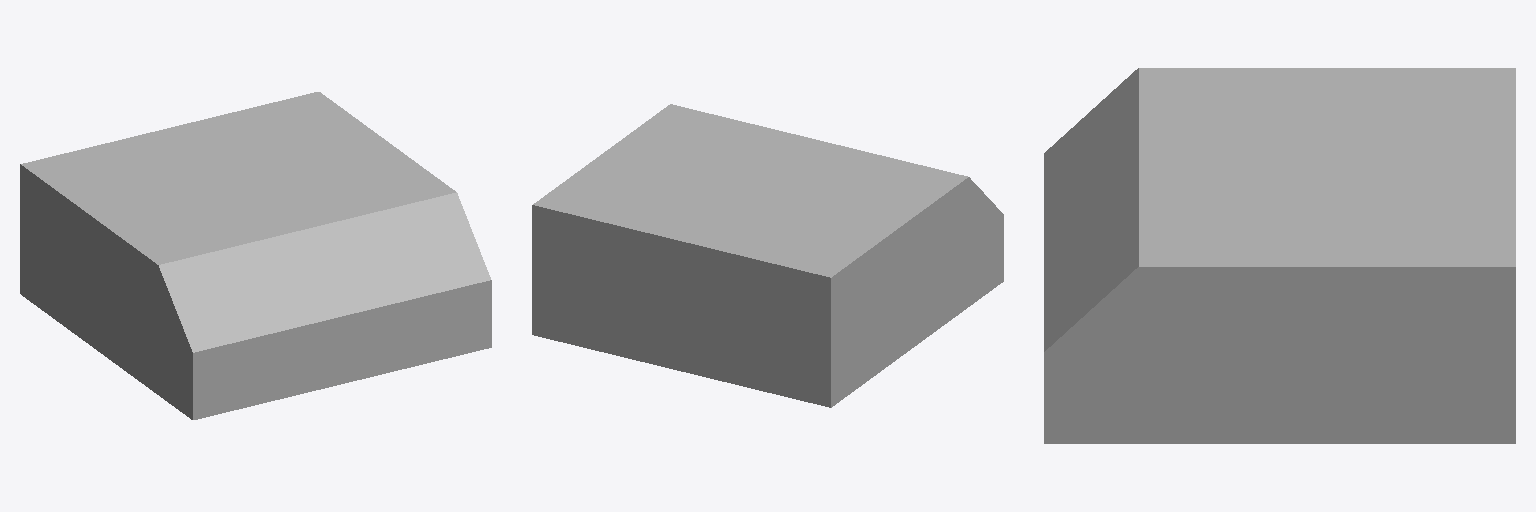
robot.urdf — root:
<?xml version='1.0' encoding='utf-8'?>
<robot name="root">
  <link name="link_001">
    <visual>
      <origin xyz="0 0 0" rpy="0 0 0" />
      <geometry>
        <mesh filename="330c132b36b240e87185f848e279dd2c0e7b1e4c9dd10131daf9ea3e5c286f3c_scale_002.stl" scale="1.0000E+00 1.0000E+00 1.0000E+00" />
      </geometry>
      <material name="">
        <color rgba="7.50E-01 7.50E-01 7.50E-01 1" />
      </material>
    </visual>
    <collision>
      <origin xyz="0 0 0" rpy="0 0 0" />
      <geometry>
        <mesh filename="330c132b36b240e87185f848e279dd2c0e7b1e4c9dd10131daf9ea3e5c286f3c_scale_002.stl" scale="1.0000E+00 1.0000E+00 1.0000E+00" />
      </geometry>
    </collision>
  </link>
</robot>

--- Facts derived from the render (not from the file) ---
Views: 3 orthographic renders of the robot side by side, from view 1: azimuth 30°, elevation 25°; view 2: azimuth 150°, elevation 25°; view 3: azimuth 270°, elevation 25°.
Robot: root — 1 links, 0 joints (none); root link link_001; default pose: every joint at zero.
Visible links, largest first — view 1: link_001; view 2: link_001; view 3: link_001.
Link boxes in pixels (x1,y1,x2,y2): link_001: (20, 92, 491, 419); link_001: (532, 104, 1003, 407); link_001: (1044, 68, 1515, 443).
Bounding box of the posed robot: 0.12 × 0.12 × 0.05 m (x, y, z).
Meshes: 1 distinct files referenced, 1 mesh visuals loaded (1 binary STL).
